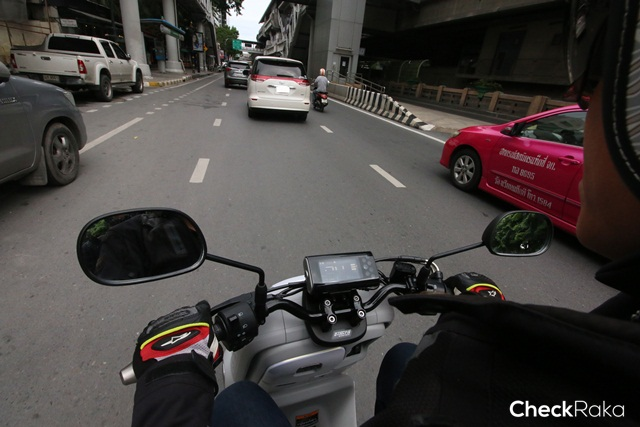motorcycle: (68, 196, 562, 394), (310, 88, 333, 115)
